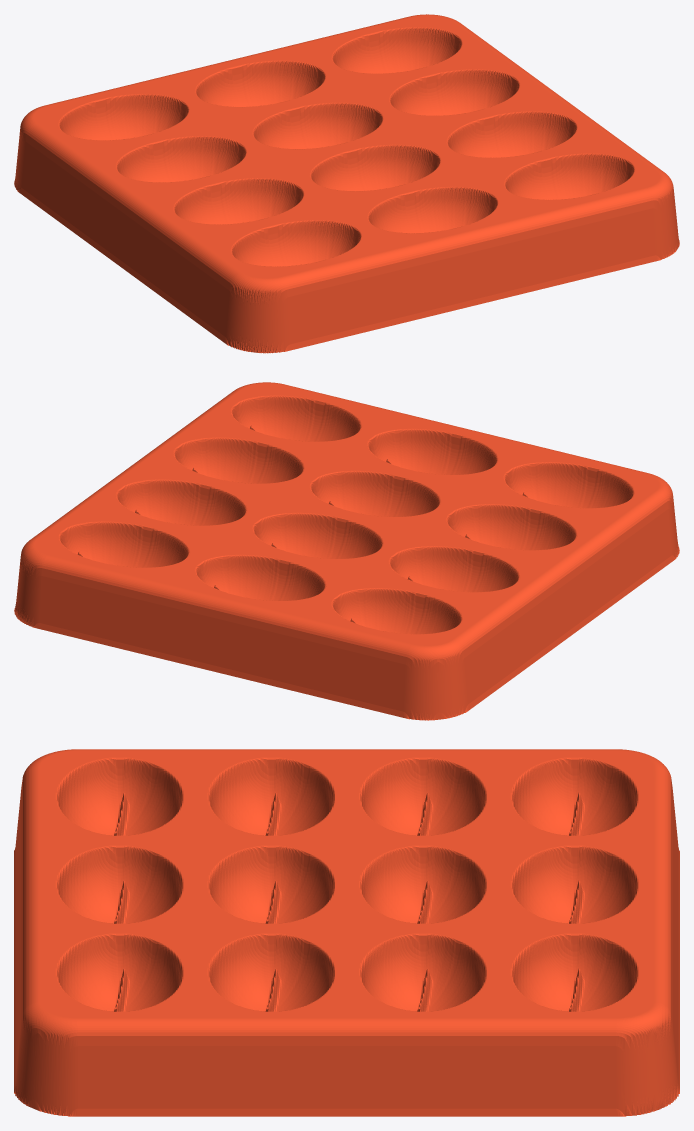
File: mold.glb
The picture shows the model from 3 angles, top to bottom: view 1: azimuth 30°, elevation 25°; view 2: azimuth 150°, elevation 25°; view 3: azimuth 270°, elevation 25°; orthographic projection. The views are drawn at different scales.
Visible parts, largest first — view 1: geometry_0; view 2: geometry_0; view 3: geometry_0.
Part boxes in pixels (<box>): geometry_0: <box>14,14,679,353</box>; geometry_0: <box>14,382,679,720</box>; geometry_0: <box>14,749,679,1116</box>.
Bounding box in the file's own units: 0.0963 × 0.0136 × 0.0938.
